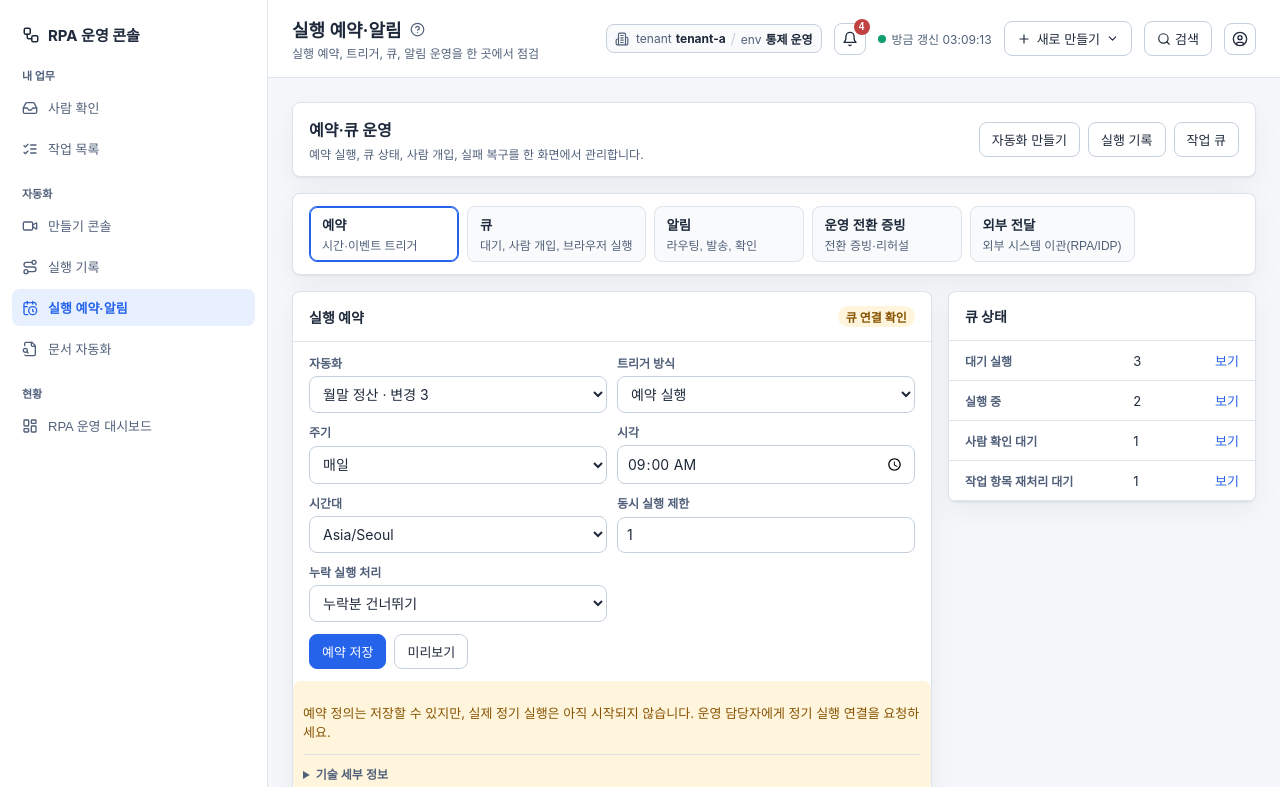
Test: automation ops view › automation-ops-desktop-sections keep dense operations behind local sections
Expected: the heading "실행 예약" is shown, [309,306,364,326]
Expected: the heading "운영 헬스" is not shown
Click the button "큐 대기, 사람 개입, 브라우저 실행": (556, 234) [467,206,646,262]
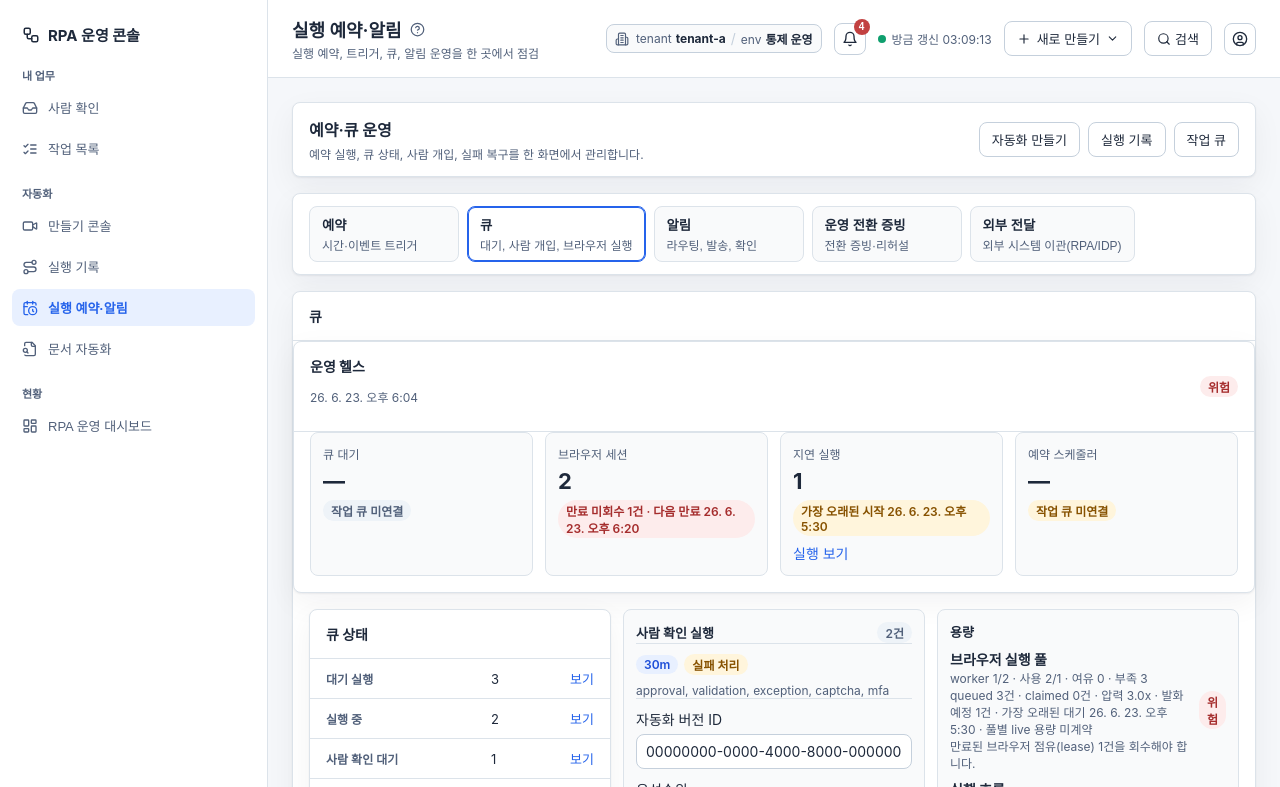
Expected: the heading "용량" is shown, [950,624,974,640]
Expected: the heading "운영 헬스" is shown, [310,358,365,375]
Click the button "알림 라우팅, 발송, 확인": (728, 234) [654,206,804,262]
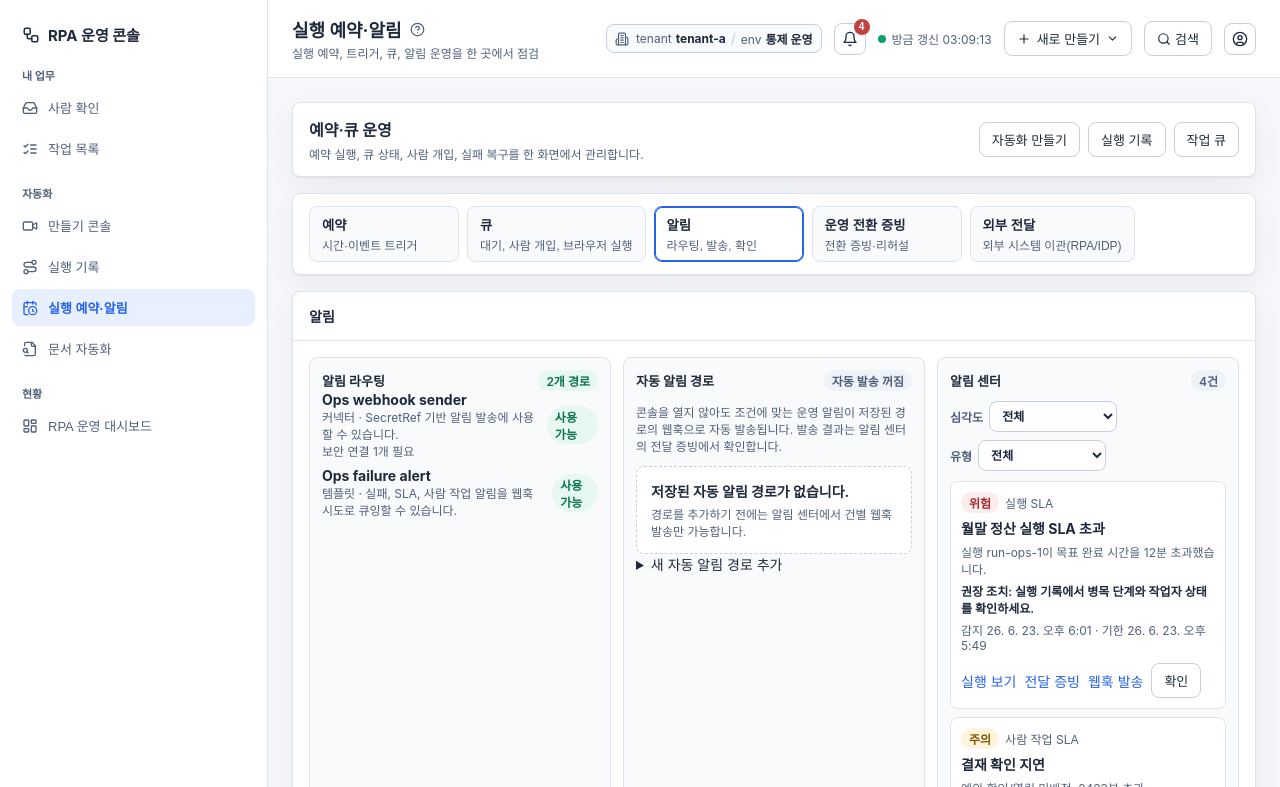
Expected: the heading "알림 라우팅" is shown, [322,371,385,390]
Click the button "운영 전환 증빙 전환 증빙·리허설": (886, 234) [812,206,962,262]
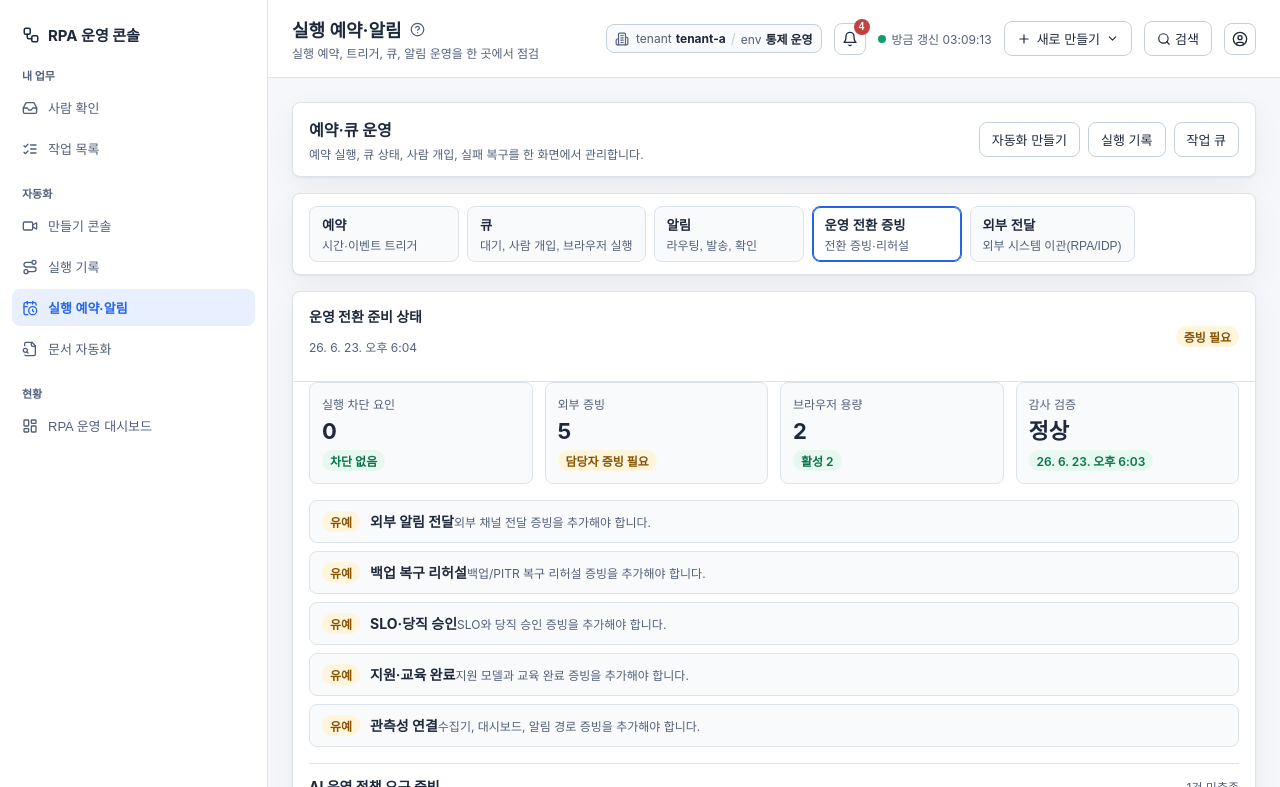
Expected: the heading "운영 전환 준비 상태" is shown, [309,306,422,326]
Click the button "외부 전달 외부 시스템 이관(RPA/IDP)": (1052, 234) [970,206,1135,262]
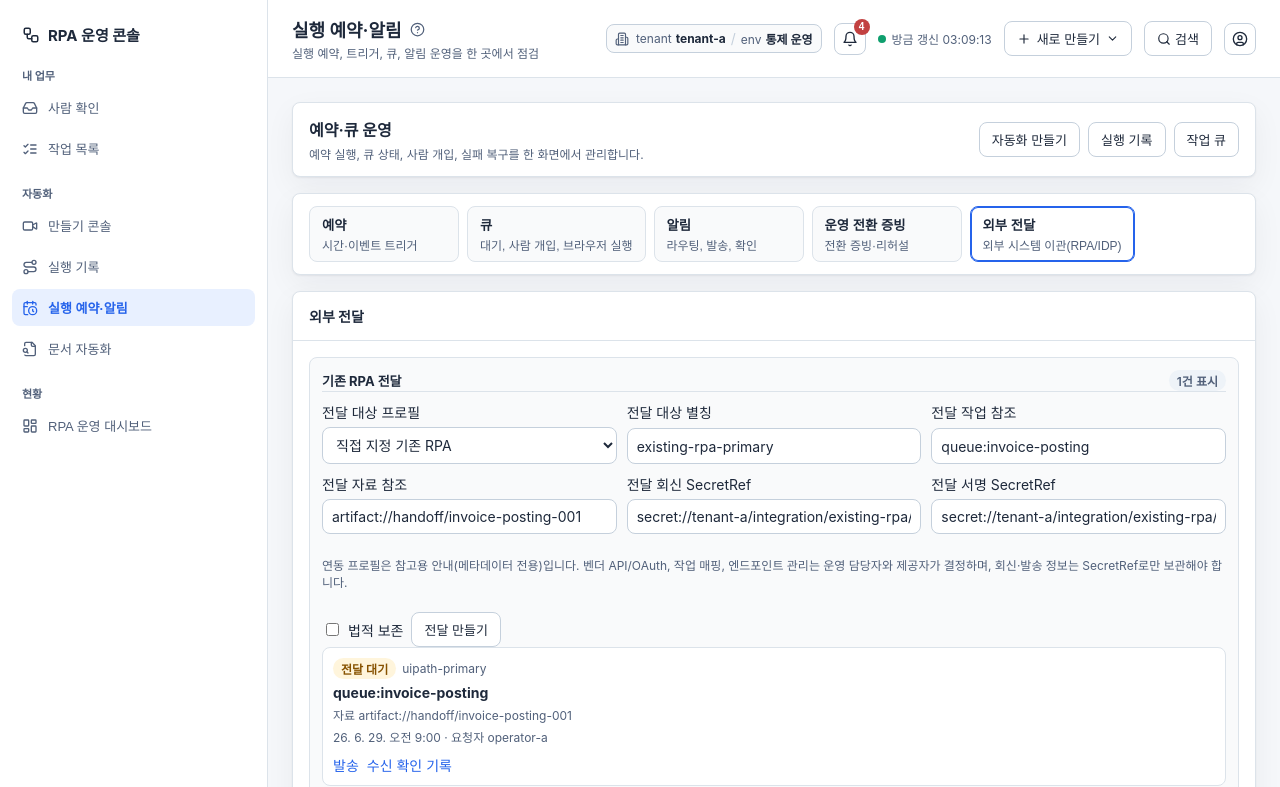
Expected: the heading "기존 RPA 전달" is shown, [322,371,402,390]
